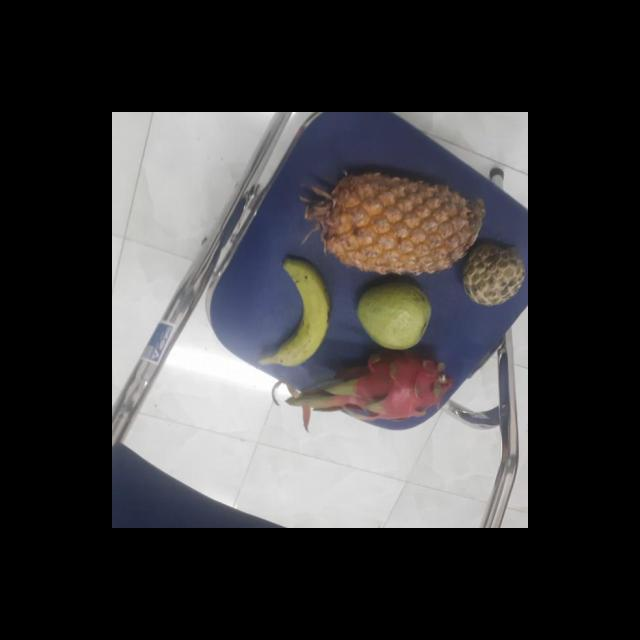Sakya fruit: (457, 242, 525, 306)
banana: (261, 262, 331, 368)
guava: (354, 280, 434, 352)
pineapple: (320, 174, 481, 274)
pitaya: (312, 345, 452, 426)
